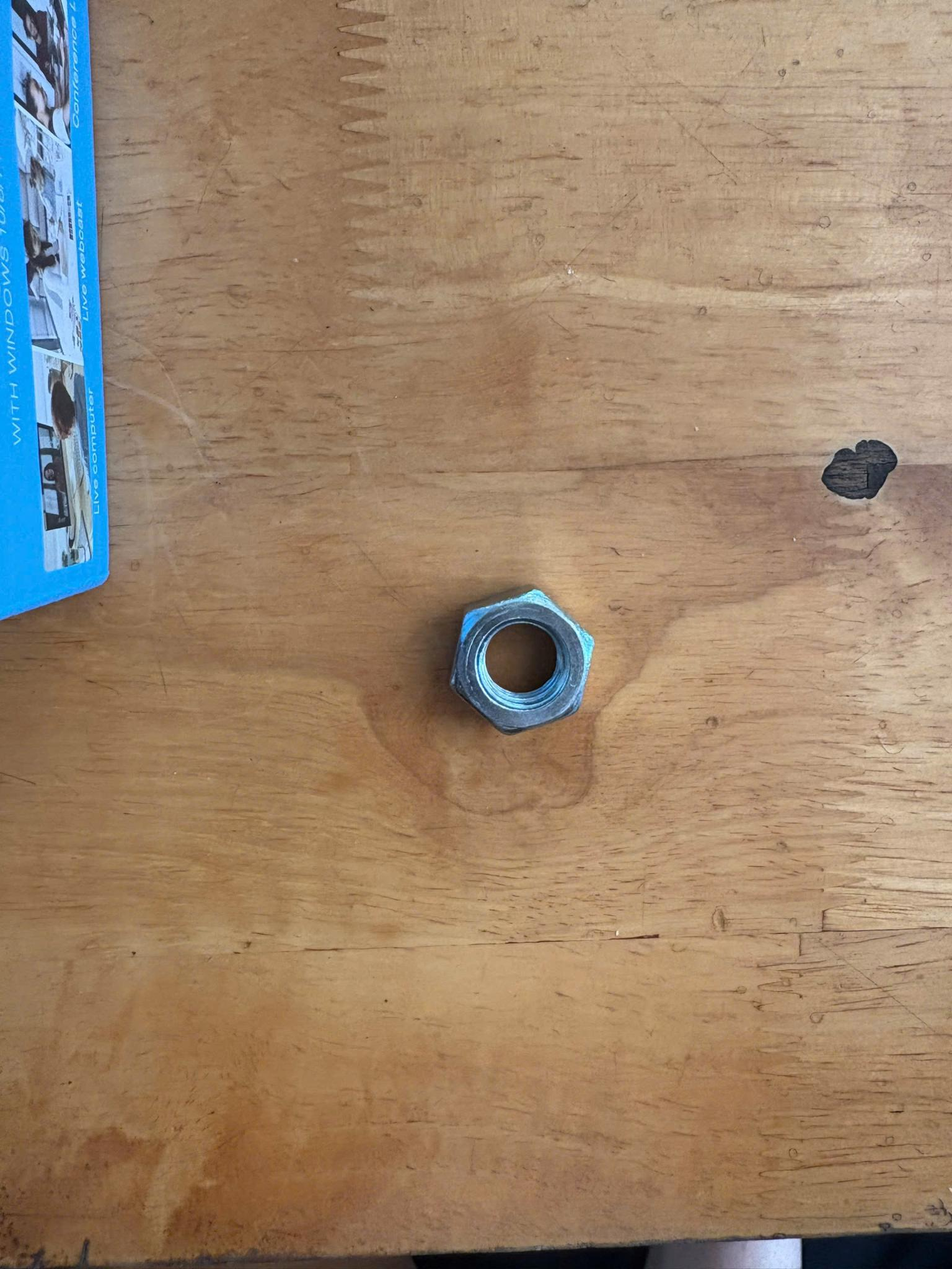nut: (426, 571, 605, 760)
